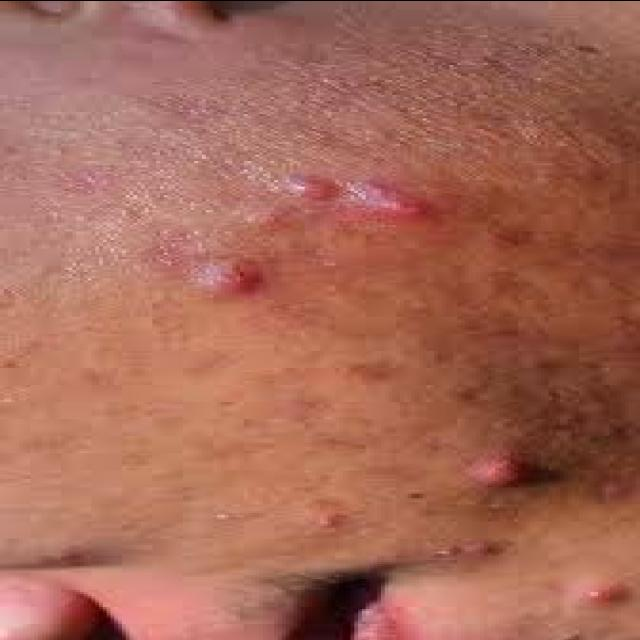Acne: (351, 178, 433, 218), (194, 256, 264, 298), (471, 448, 530, 490), (432, 536, 508, 560), (280, 174, 342, 202), (570, 580, 630, 608), (304, 506, 354, 534), (242, 209, 294, 231), (599, 478, 638, 504)
